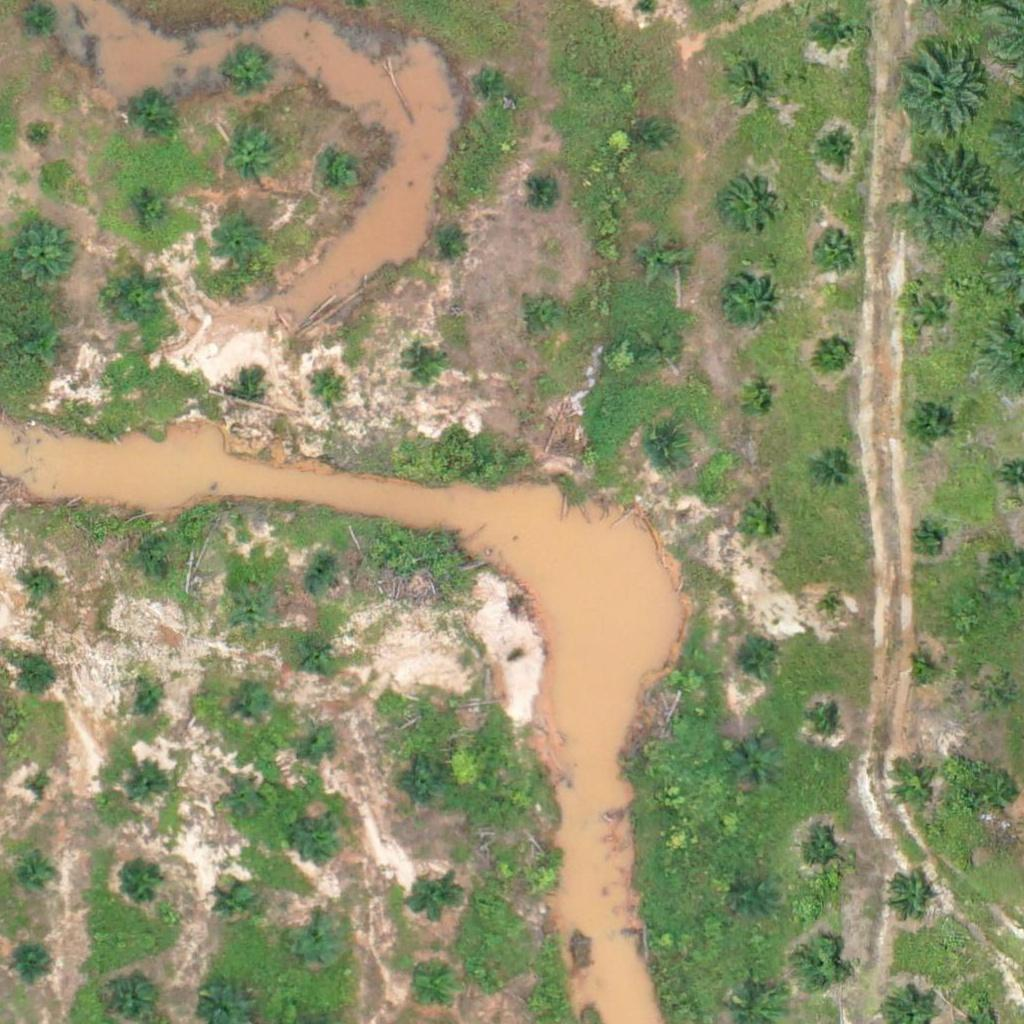Kelapa_Sawit: (892, 47, 992, 148), (900, 149, 1000, 250), (288, 913, 351, 976), (9, 217, 72, 279), (719, 273, 781, 336), (110, 268, 172, 330), (223, 47, 273, 98), (722, 176, 772, 227), (889, 761, 939, 812), (735, 500, 785, 551), (638, 233, 688, 284), (119, 855, 169, 906), (296, 811, 346, 861), (121, 86, 171, 136), (228, 131, 278, 181), (214, 217, 264, 267), (797, 832, 847, 882), (795, 941, 845, 991), (884, 874, 934, 924), (409, 875, 459, 925), (407, 965, 457, 1015), (903, 396, 953, 446), (731, 740, 781, 790), (400, 760, 450, 810), (906, 287, 956, 337), (811, 223, 861, 273), (9, 323, 59, 373), (518, 984, 556, 1022), (524, 859, 562, 897), (735, 641, 773, 679), (628, 118, 666, 156), (133, 188, 171, 226), (822, 12, 860, 50), (22, 563, 60, 601), (16, 949, 54, 987), (134, 677, 172, 715), (302, 719, 340, 757), (302, 632, 340, 670), (301, 557, 339, 595), (321, 155, 358, 193), (979, 678, 1017, 715), (738, 385, 776, 422), (735, 879, 772, 917), (816, 129, 853, 167), (734, 62, 771, 100), (528, 173, 566, 210), (404, 348, 441, 386), (645, 331, 683, 368), (818, 333, 855, 371), (23, 113, 60, 151), (308, 372, 345, 410), (12, 658, 50, 695), (21, 774, 59, 811), (18, 858, 56, 895), (130, 761, 168, 798), (145, 557, 182, 595), (230, 594, 267, 632), (235, 686, 272, 724), (225, 782, 262, 820), (814, 457, 851, 494), (646, 429, 683, 466), (426, 221, 463, 258), (523, 299, 560, 336), (474, 64, 511, 101), (216, 886, 253, 923), (231, 378, 256, 404), (915, 527, 940, 552), (908, 657, 933, 682), (820, 596, 845, 621), (814, 708, 839, 733)
